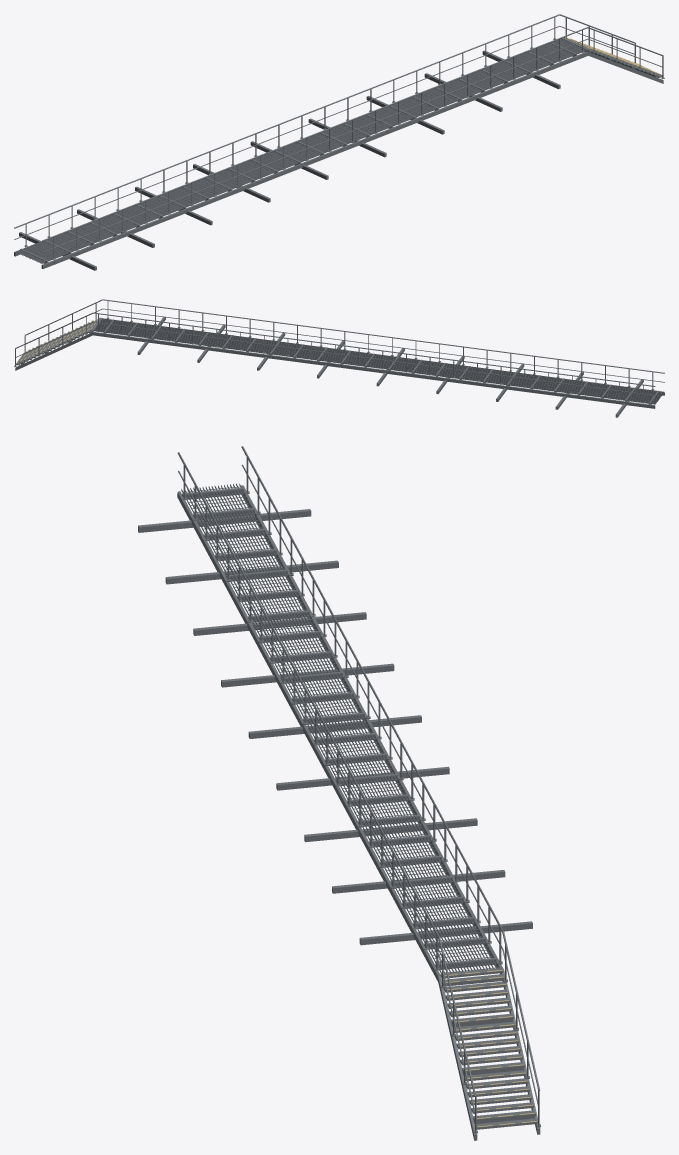
File: BN_T14_UpperWalk_LOD1.fbx
The picture shows the model from 3 angles, top to bottom: view 1: azimuth 30°, elevation 25°; view 2: azimuth 150°, elevation 25°; view 3: azimuth 270°, elevation 25°; orthographic projection. The views are drawn at different scales.
Parts seen in each view (by area): view 1: BN_T14_UpperWalk_LOD1; view 2: BN_T14_UpperWalk_LOD1; view 3: BN_T14_UpperWalk_LOD1.
Part boxes in pixels (x1,y1,x2,y2): BN_T14_UpperWalk_LOD1: [14, 14, 664, 270]; BN_T14_UpperWalk_LOD1: [14, 299, 664, 417]; BN_T14_UpperWalk_LOD1: [138, 446, 540, 1140].
Size of the model in its own units: 3173 by 362 by 967.
